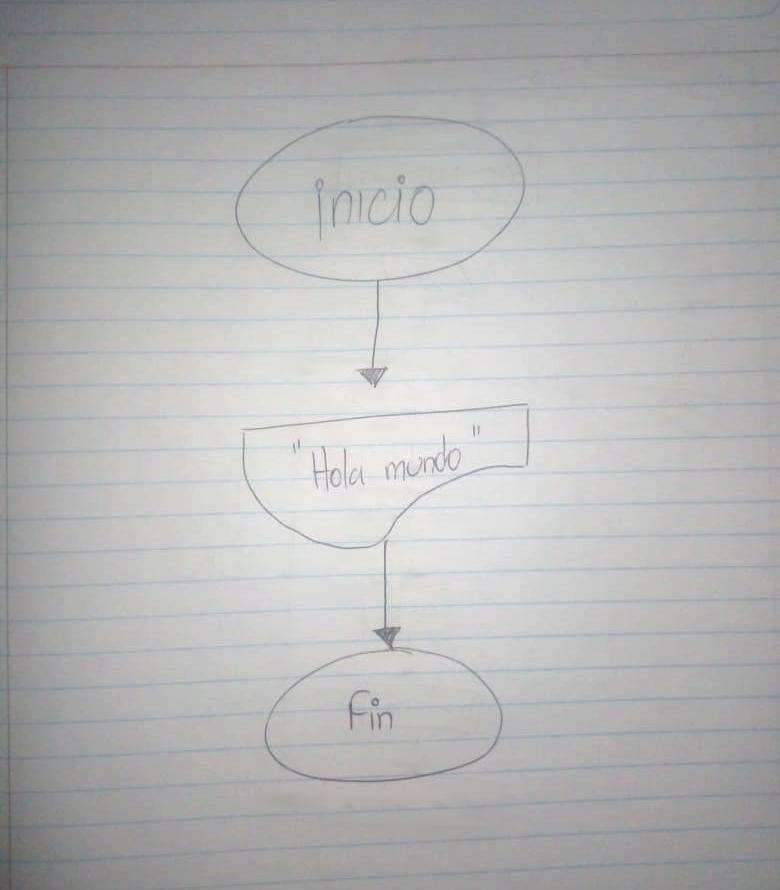arrow_line_down: (353, 280, 399, 405), (368, 537, 409, 655)
print: (230, 403, 545, 552)
start_end: (216, 109, 538, 289), (251, 645, 515, 789)
